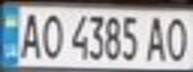3: (84, 11, 106, 61)
4: (66, 11, 90, 61)
5: (121, 12, 142, 62)
8: (103, 12, 124, 61)
A: (15, 9, 45, 60), (142, 12, 172, 63)
O: (36, 10, 66, 61), (163, 14, 193, 63)
